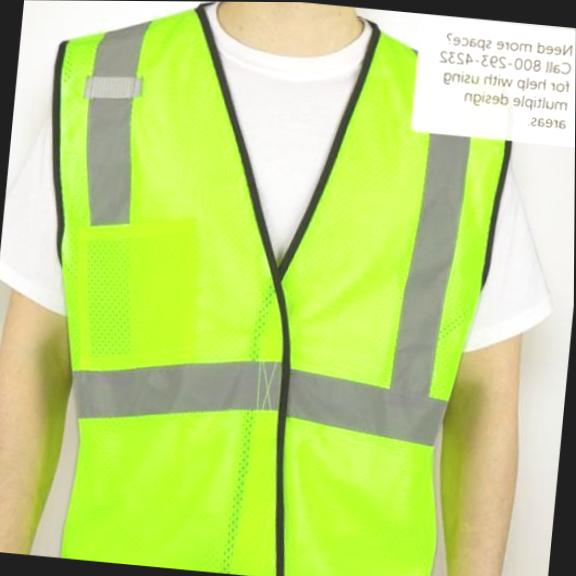safety_vest: (9, 0, 527, 576)
